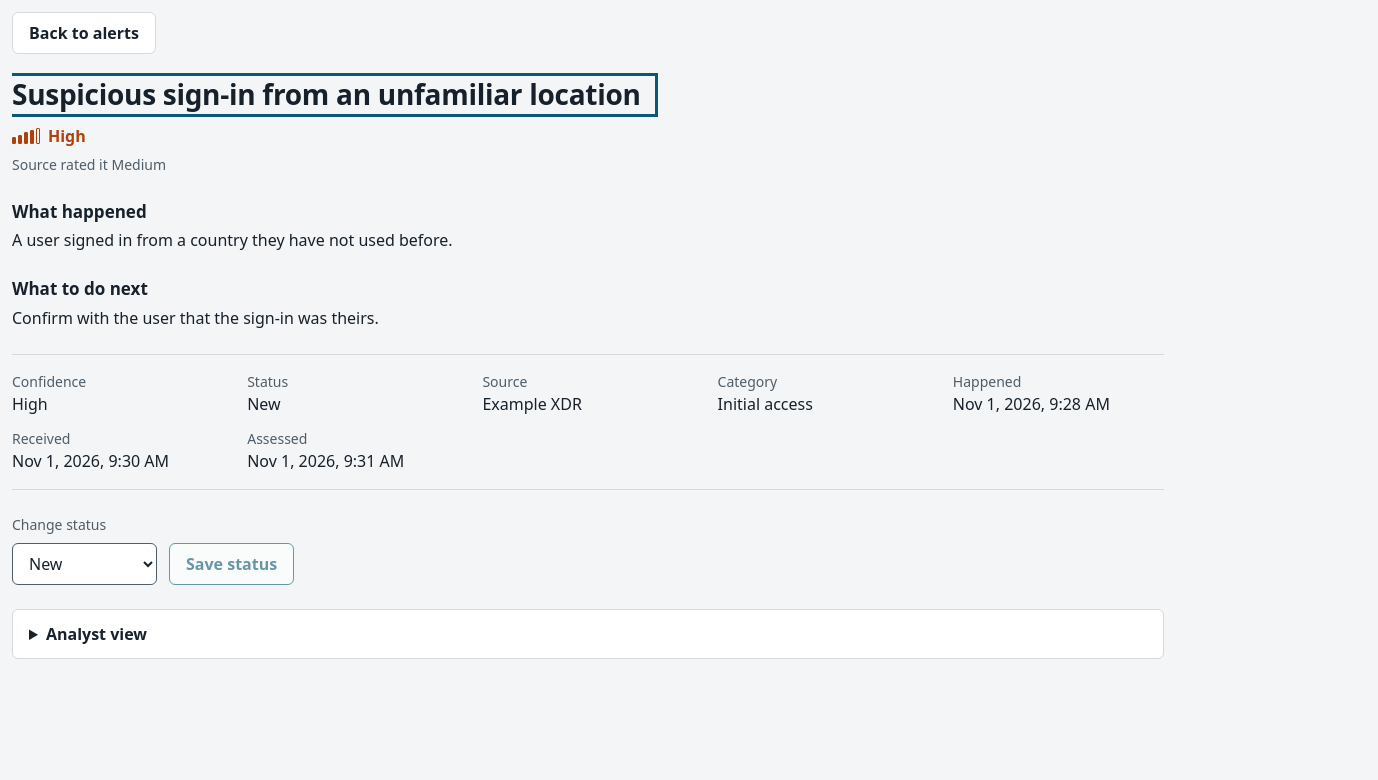
Scenario: AlertDetailView › changes the status only after the server confirms
Later steps or results of the test are not shown.
Expected: the button "Save status" is disabled, x1=169 y1=543 x2=294 y2=585
Step 1. Select "Investigating" in the dropdown labelled "Change status" → (84, 564), box x1=12 y1=543 x2=157 y2=585
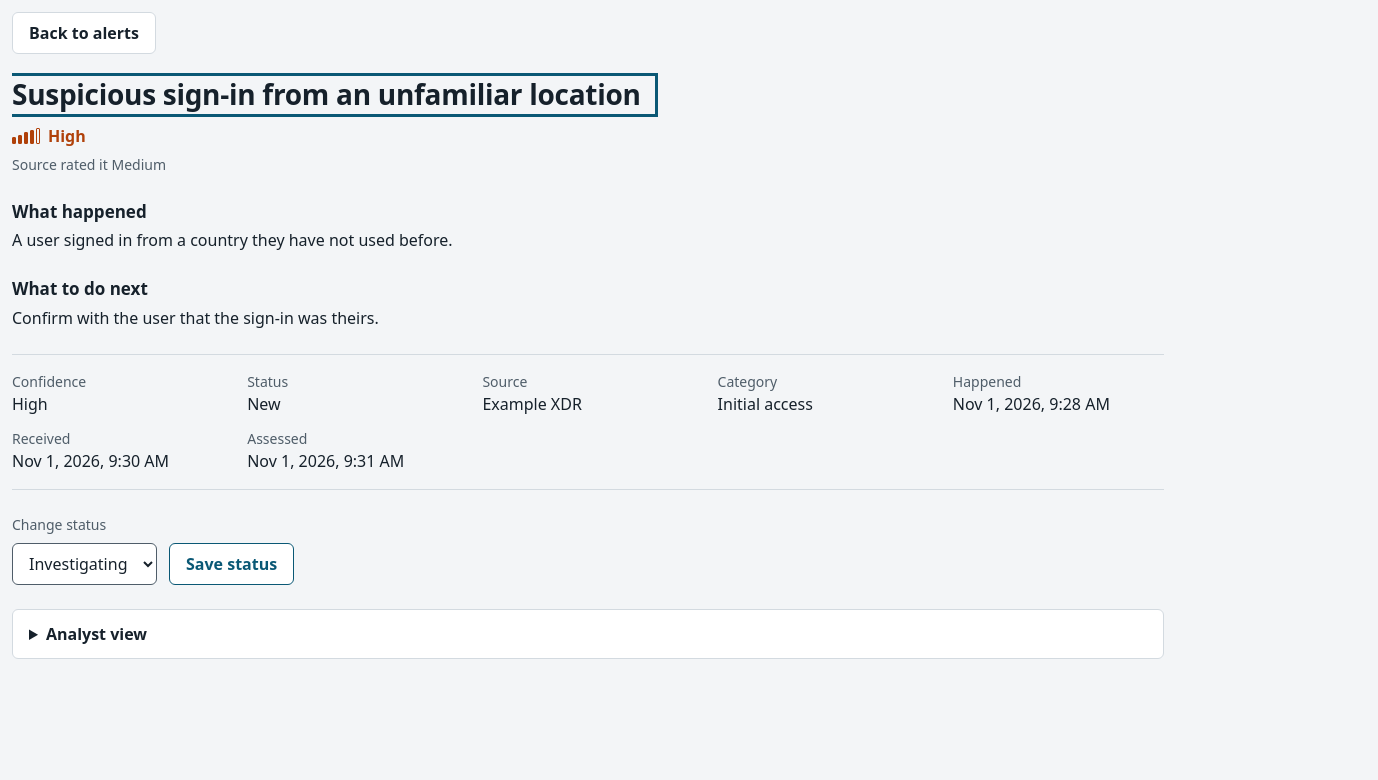
Step 2. Click the button "Save status" → (232, 564), box x1=169 y1=543 x2=294 y2=585
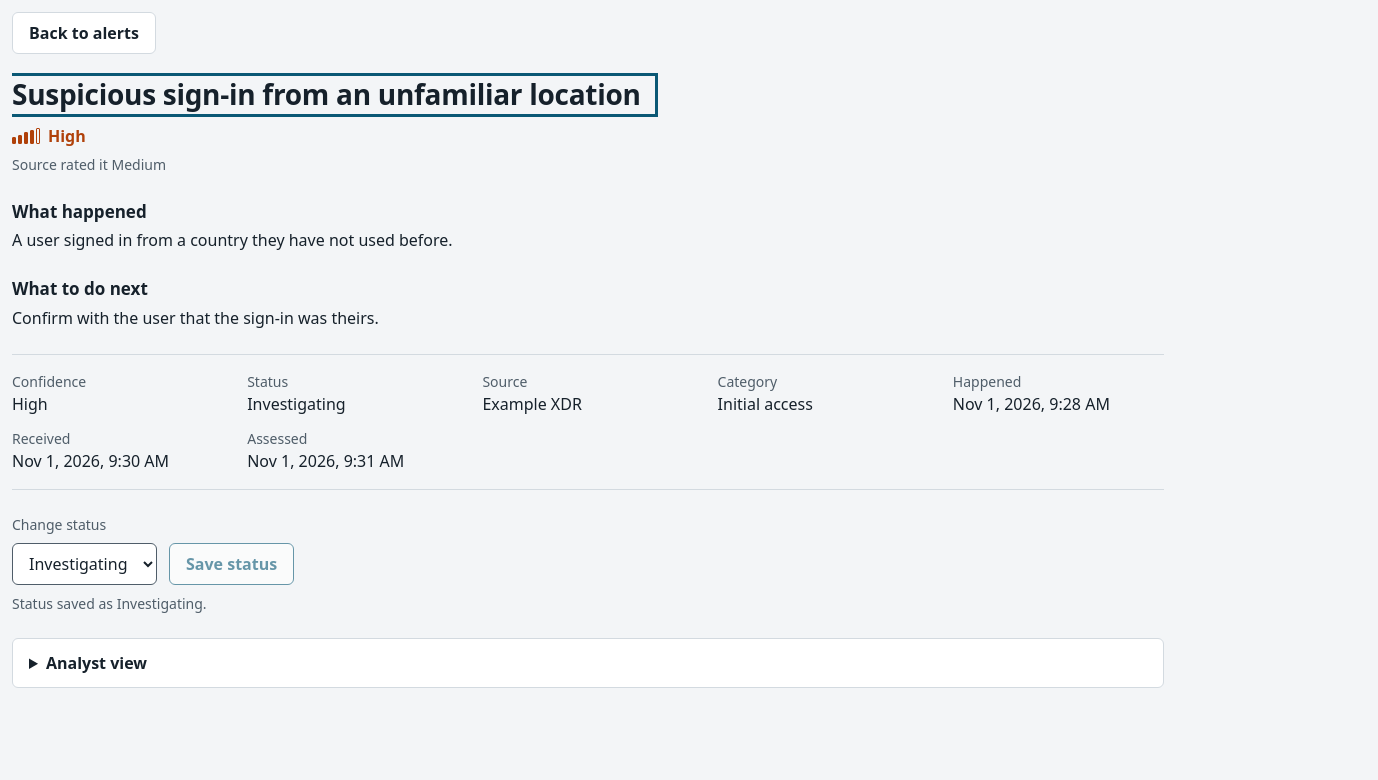
Now the text "Status saved as Investigating." is shown, box x1=12 y1=594 x2=207 y2=613
Now the text "Investigating" is shown, box x1=247 y1=393 x2=346 y2=415
